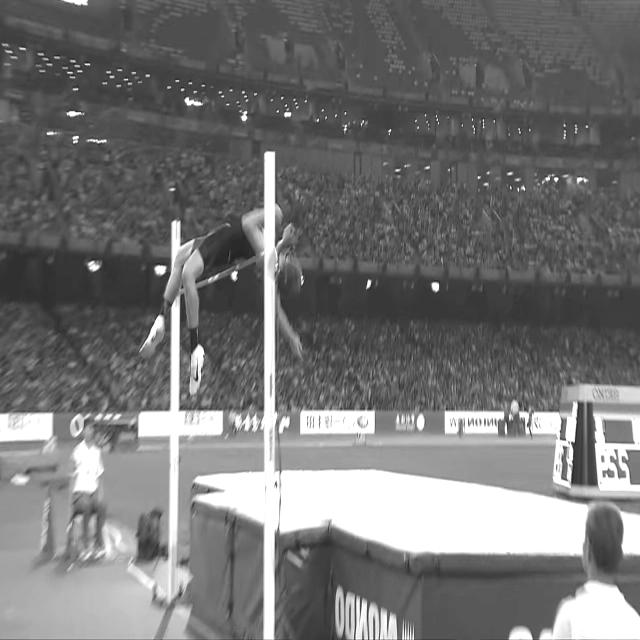jump: (139, 202, 314, 396)
